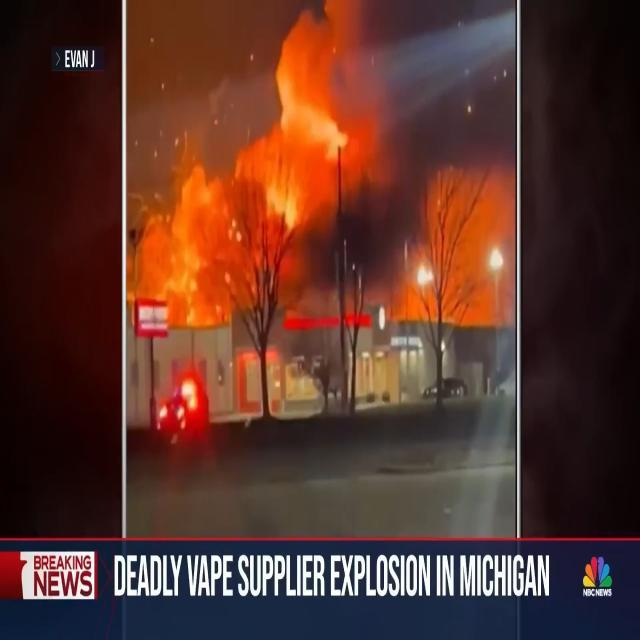fire: (139, 0, 508, 324)
